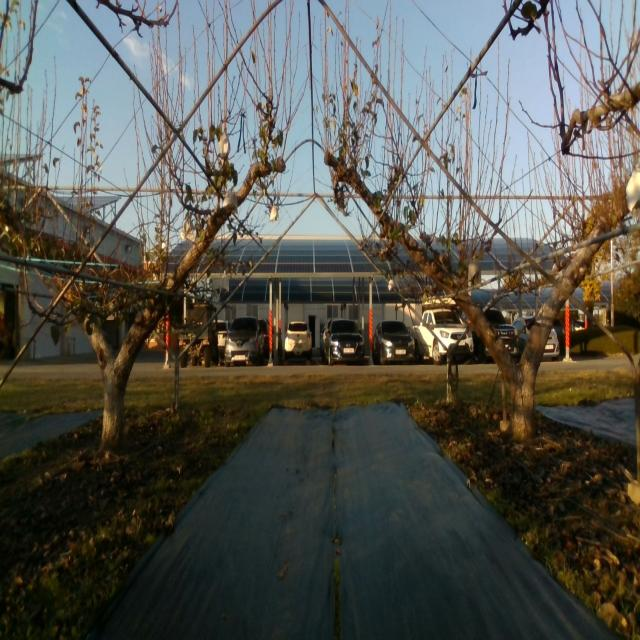pearbags: (624, 171, 640, 216), (222, 190, 238, 213), (468, 262, 482, 284), (183, 218, 195, 242), (219, 132, 230, 158)
